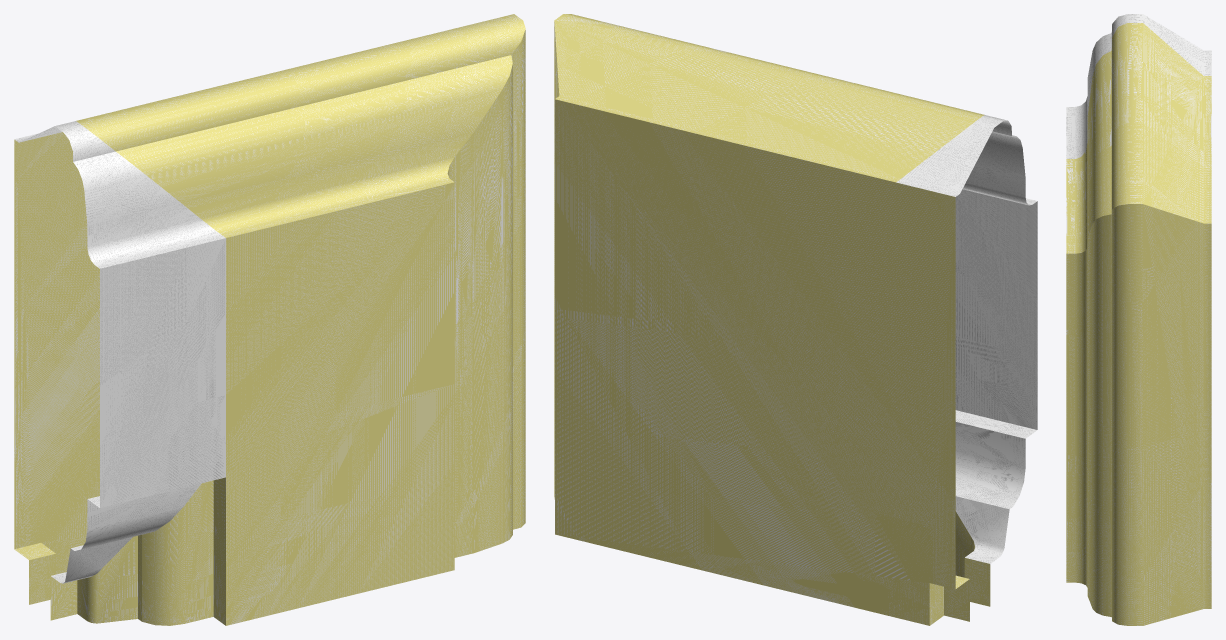
Rendered from original-37.obj.
3 renders of one model, left to right at view 1: azimuth 30°, elevation 25°; view 2: azimuth 150°, elevation 25°; view 3: azimuth 270°, elevation 25°, orthographic. The views are drawn at different scales.
Visible parts, largest first — view 1: LT_11_TR1/LT_11_TR/mesh28/mesh28-geometry#mesh28-geometry; view 2: LT_11_TR1/LT_11_TR/mesh28/mesh28-geometry#mesh28-geometry; view 3: LT_11_TR1/LT_11_TR/mesh28/mesh28-geometry#mesh28-geometry.
Boxes of the visible parts, left/top/right/bottom form: LT_11_TR1/LT_11_TR/mesh28/mesh28-geometry#mesh28-geometry: left=14, top=14, right=525, bottom=625; LT_11_TR1/LT_11_TR/mesh28/mesh28-geometry#mesh28-geometry: left=554, top=14, right=1037, bottom=625; LT_11_TR1/LT_11_TR/mesh28/mesh28-geometry#mesh28-geometry: left=1066, top=14, right=1211, bottom=625.
Bounding box in the file's own units: 0.1027 × 0.1062 × 0.0331.
